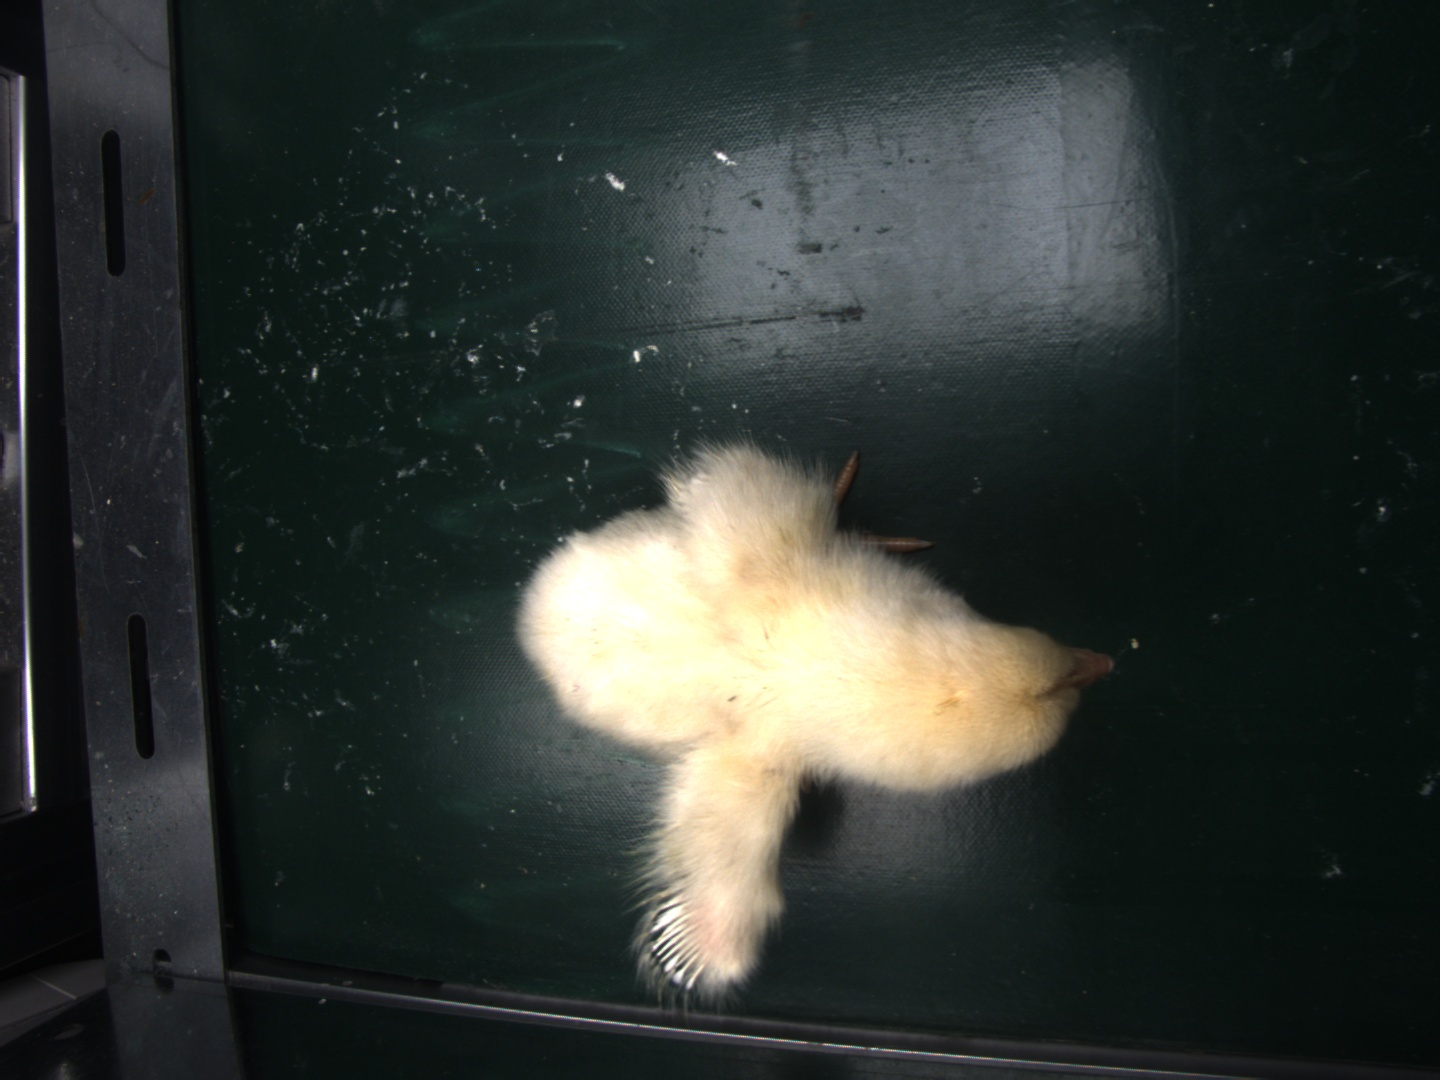male: (647, 892, 708, 998)
